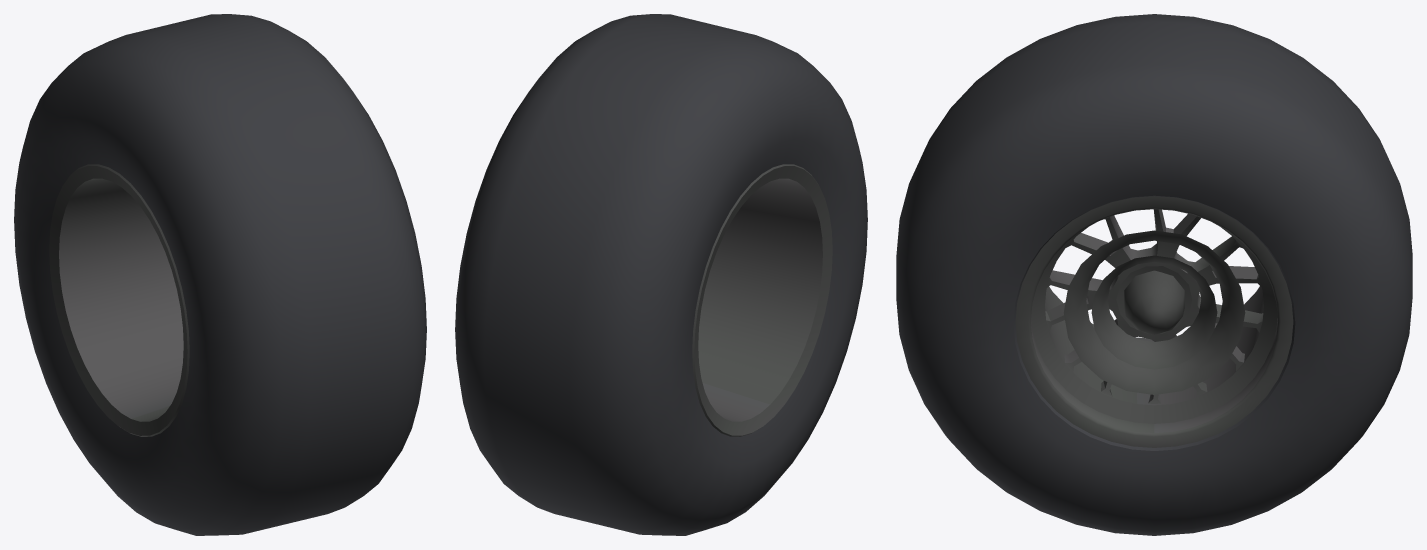
The model's file is LeftFrontWheel.obj.
The picture shows the model from 3 angles, left to right: view 1: azimuth 30°, elevation 25°; view 2: azimuth 150°, elevation 25°; view 3: azimuth 270°, elevation 25°; orthographic projection.
Visible parts, largest first — view 1: object__46, object__45, object__17; view 2: object__46, object__45, object__17; view 3: object__45, object__46, object__17.
Boxes of the visible parts, <box> form: object__46: <box>54,14,424,535</box>; object__45: <box>14,64,426,528</box>; object__17: <box>49,164,189,436</box>; object__46: <box>457,14,827,535</box>; object__45: <box>455,64,867,528</box>; object__17: <box>692,164,832,436</box>; object__45: <box>917,101,1391,531</box>; object__46: <box>896,14,1412,535</box>; object__17: <box>1015,196,1293,447</box>.
Size of the model in its own units: 0.3125 by 0.6512 by 0.6512.
